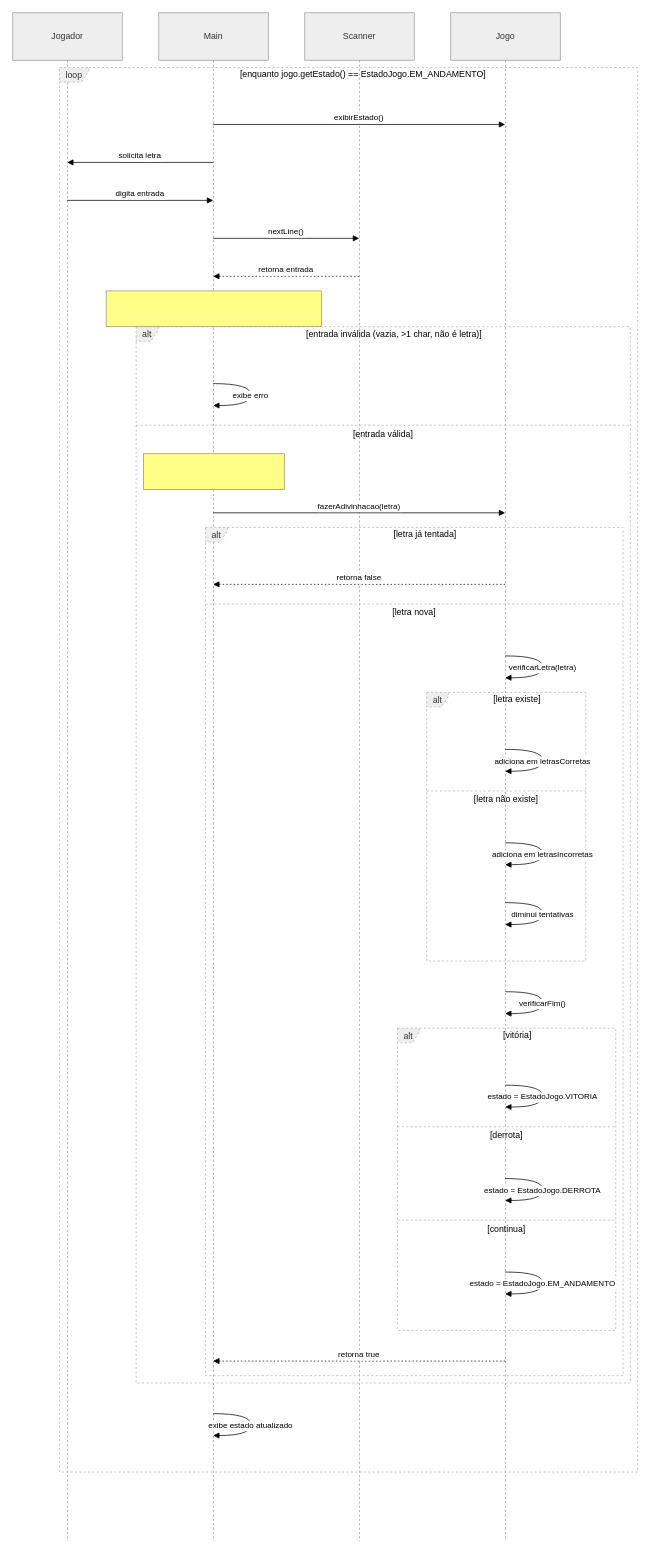
Image size: 650x1554. Some labels were removed from this diagram. The centre of each missing label's shape, as x and y in pixels:
"entrada = entrada.trim().toUpperCase()" belongs at pixel 213 308.
"letra = entrada.charAt(0)" belongs at pixel 213 471.
